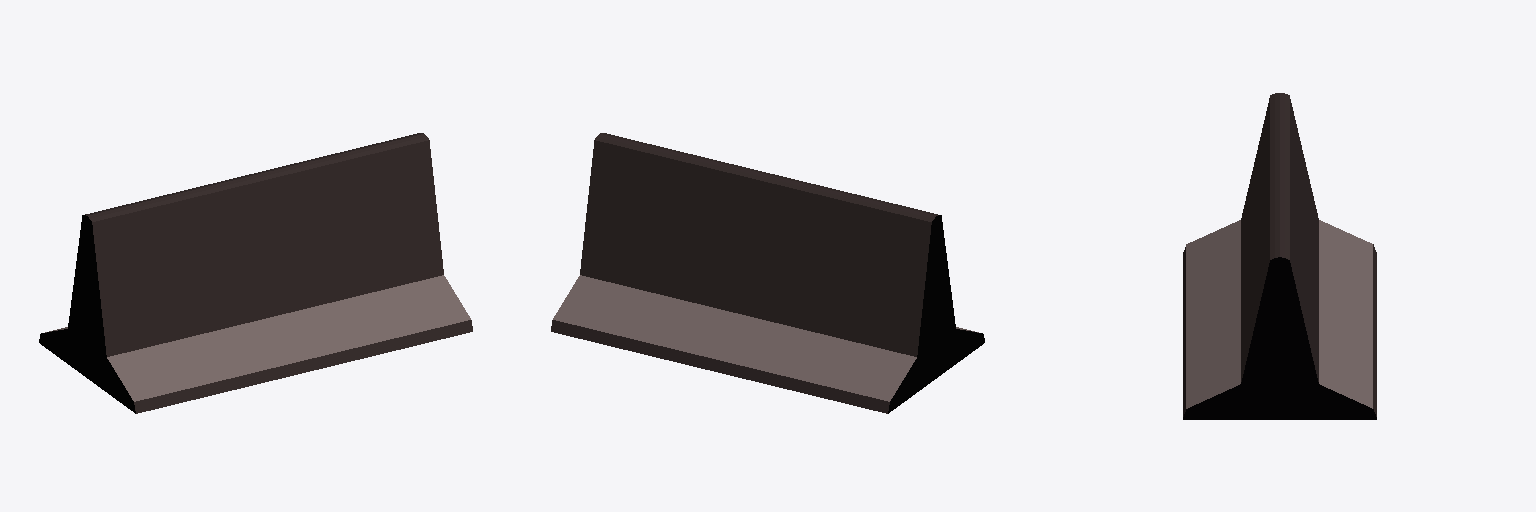
The model's file is Concrete_Wall.obj.
The picture shows the model from 3 angles: view 1: azimuth 30°, elevation 25°; view 2: azimuth 150°, elevation 25°; view 3: azimuth 270°, elevation 25°; orthographic projection.
Visible parts, largest first — view 1: Plane; view 2: Plane; view 3: Plane.
Part boxes in pixels (x1,y1,x2,y2): Plane: (39, 133, 472, 413); Plane: (551, 133, 984, 413); Plane: (1183, 93, 1376, 419).
Bounding box in the file's own units: 2 × 0.9201 × 1.